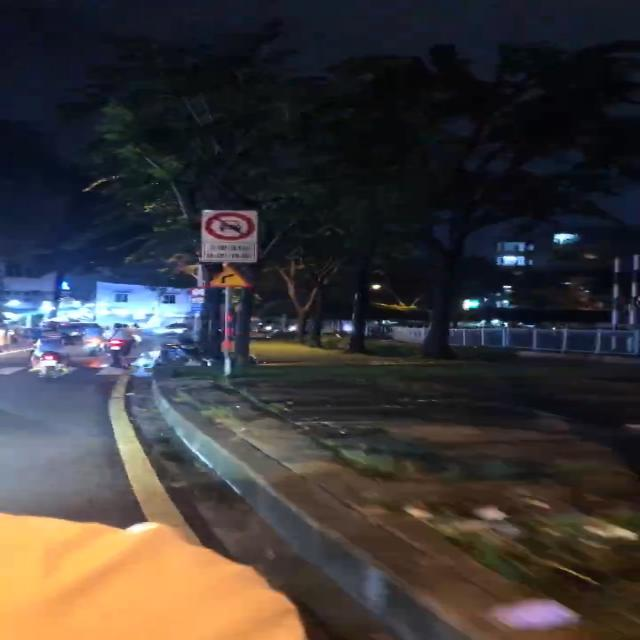Bien bao cam xe oto: (203, 209, 262, 241)
Bien bao cho ngoat nguy hiem: (203, 263, 256, 292)
